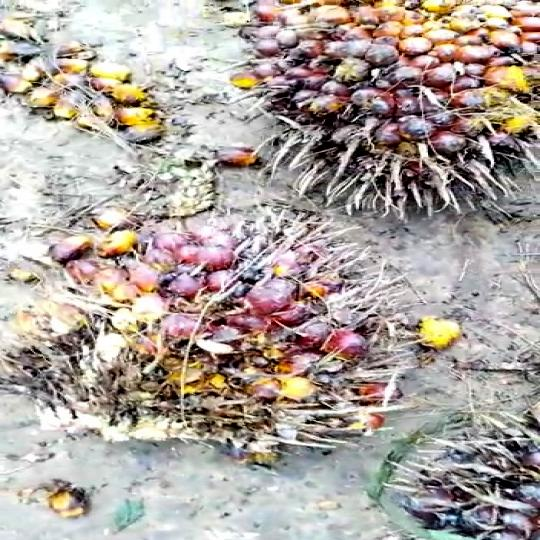masak: (0, 212, 460, 480), (185, 0, 540, 218)
